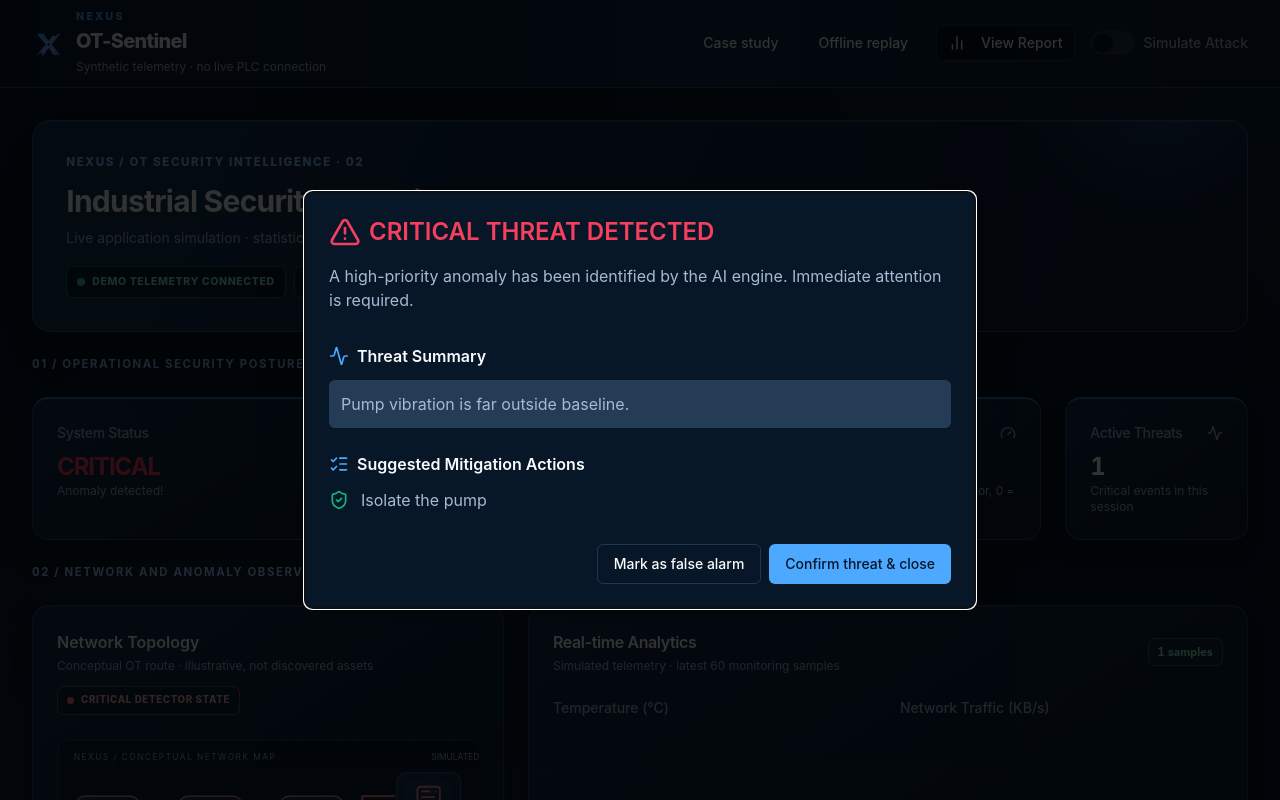
it: Dashboard › counts the threat, honours the 5 s cooldown after dismissal, then alerts again
This screenshot has width=1280, height=800.
Expected: the text "1" is shown, [1090,452,1105,481]
Click the button "Confirm threat & close": {"x": 860, "y": 564} [769,544,951,584]
Wait 6000 ms
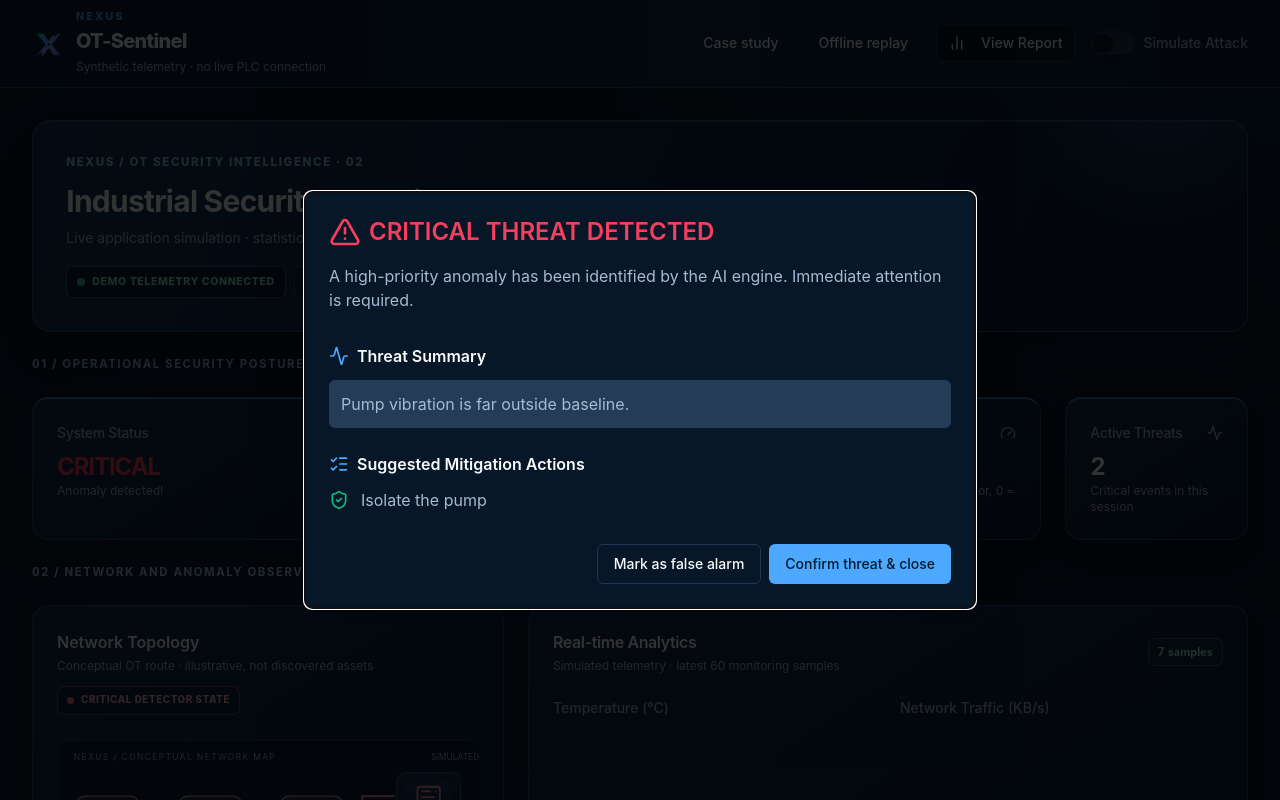
Expected: the heading "CRITICAL THREAT DETECTED" is shown, [329,216,714,248]
Now the text "2" is shown, box [1090,452,1105,481]
